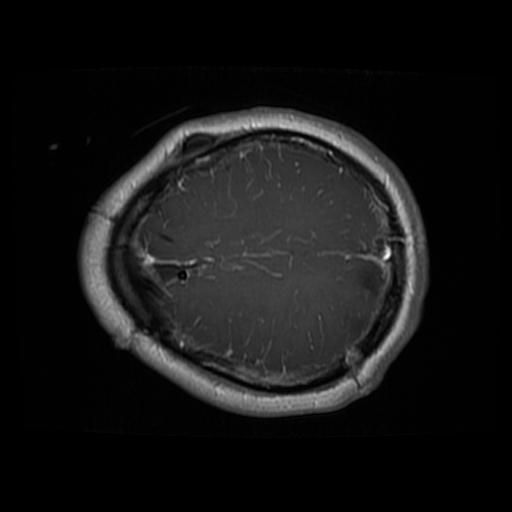glioma: (352, 258, 384, 297)
